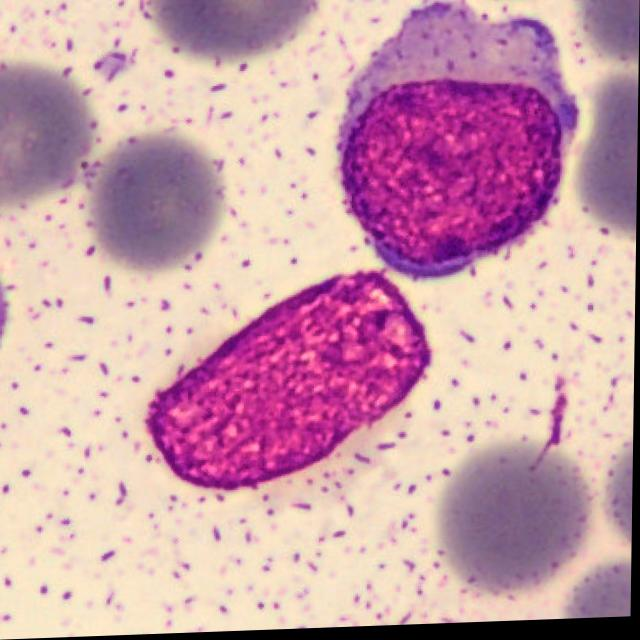Mieloblasto: (338, 4, 577, 283)
